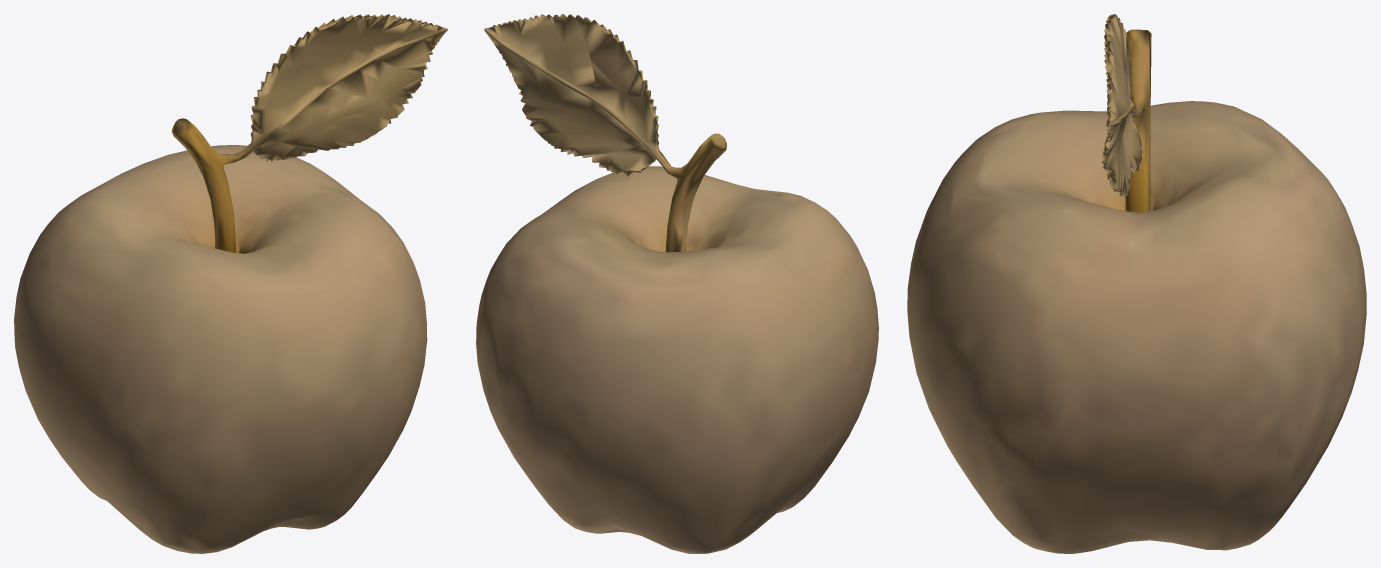
File: apple1.glb
3 views of the same model, side by side, from view 1: azimuth 30°, elevation 25°; view 2: azimuth 150°, elevation 25°; view 3: azimuth 270°, elevation 25° (orthographic). The views are drawn at different scales.
Parts seen in each view (by area): view 1: SM_Apple_GoldLiquid.001; view 2: SM_Apple_GoldLiquid.001; view 3: SM_Apple_GoldLiquid.001.
Boxes of the visible parts, x1,y1,x2,y2 form: SM_Apple_GoldLiquid.001: (14,14,447,553); SM_Apple_GoldLiquid.001: (476,14,878,553); SM_Apple_GoldLiquid.001: (907,14,1366,553).
Size of the model in its own units: 0.1277 by 0.15 by 0.1127.
Materials: 1 (1 with a texture image).
